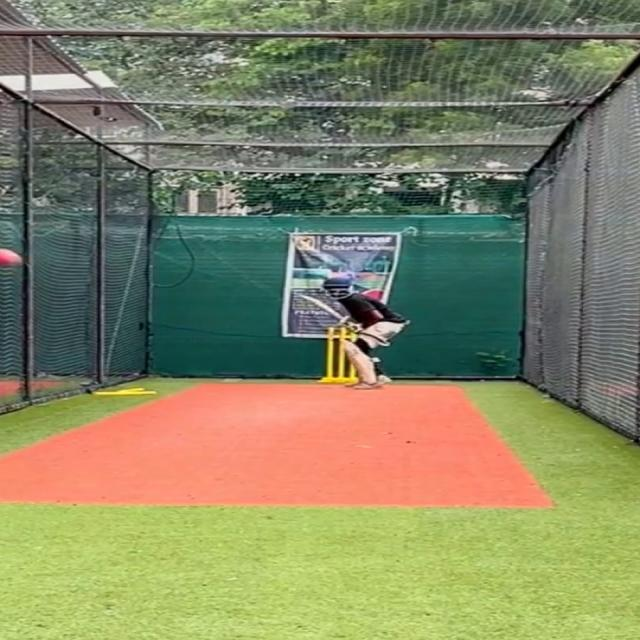ball: (0, 247, 24, 268)
stump: (324, 324, 347, 383)
